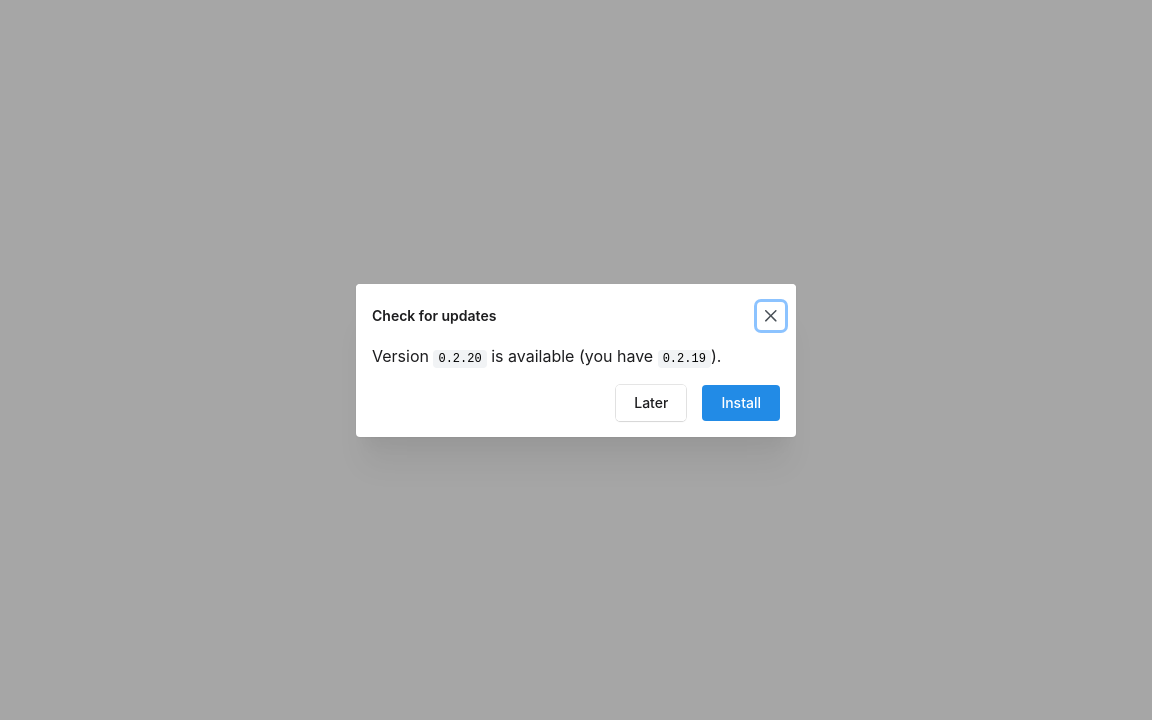
Scenario: UpdateChecker › installs, then waits for the user instead of restarting
The image size is (1152, 720).
Later steps or results of the test are not shown.
Click the button "Install" at (741,402), box x1=702 y1=384 x2=780 y2=420
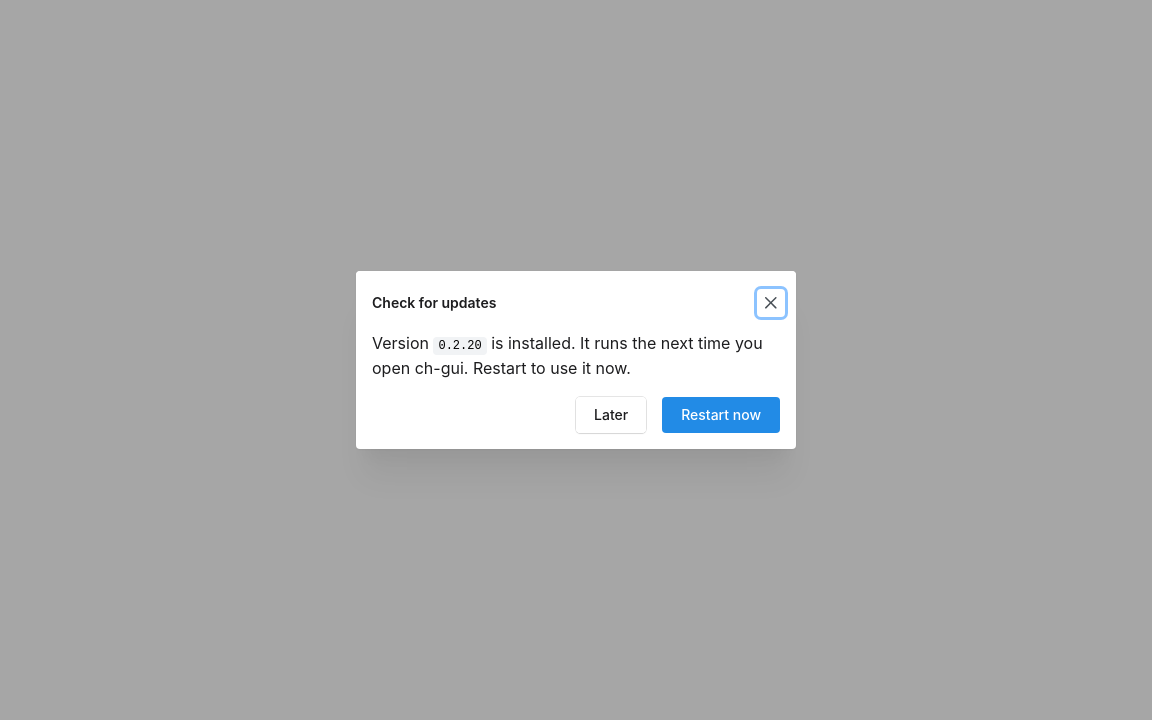
Expected: the text "is installed" is shown, x1=372 y1=333 x2=763 y2=378
